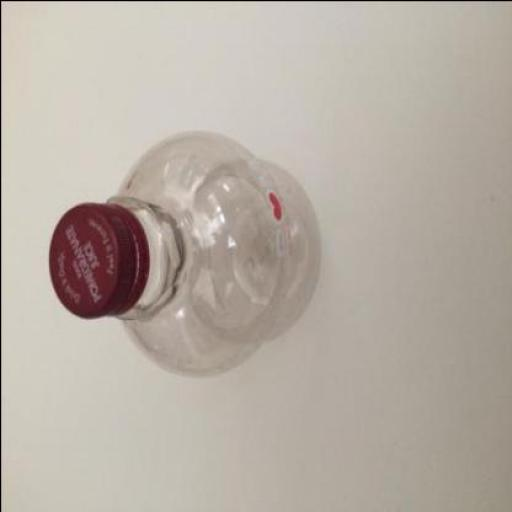plastic: (47, 129, 319, 373), (46, 200, 145, 318)
